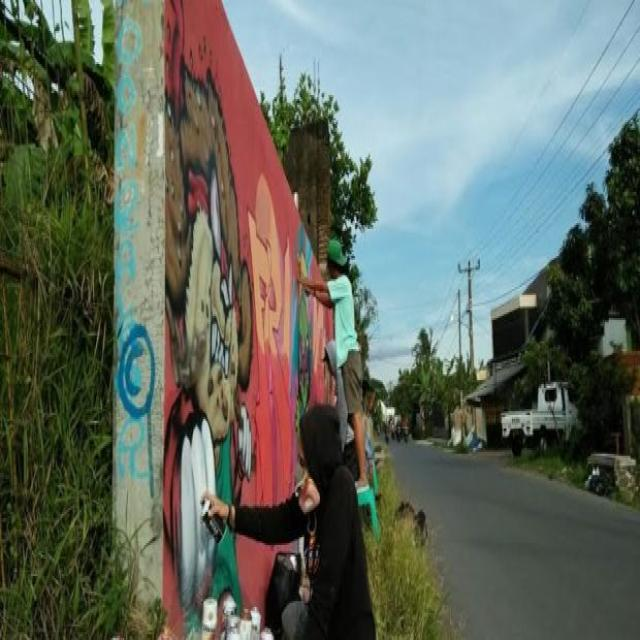-: (166, 60, 254, 638), (117, 19, 151, 488), (250, 165, 292, 358), (293, 210, 314, 436), (116, 322, 156, 420)
